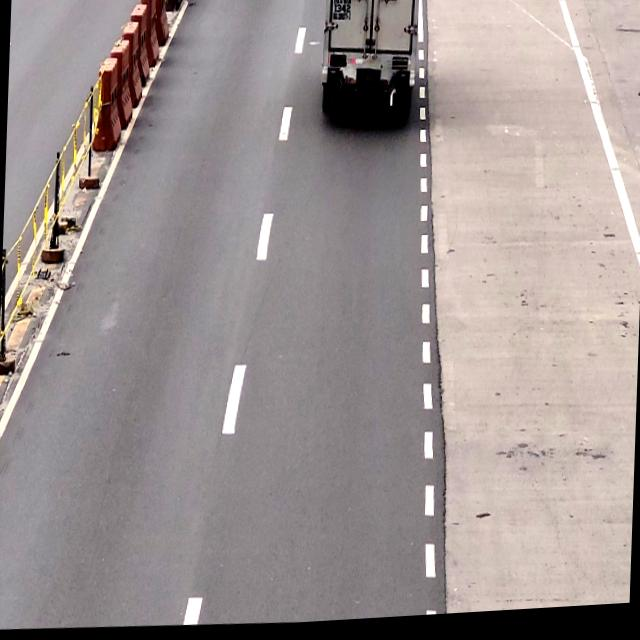Truck: (318, 0, 424, 124)
